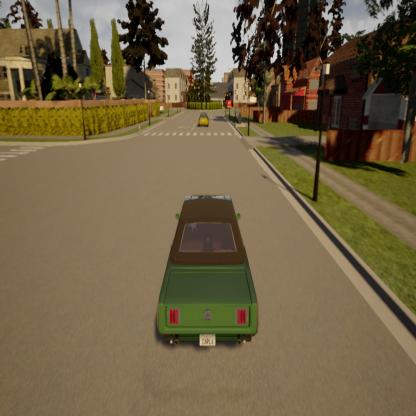Cars: (150, 190, 262, 359), (197, 111, 210, 128)
Pedestrian: (136, 120, 144, 138)
